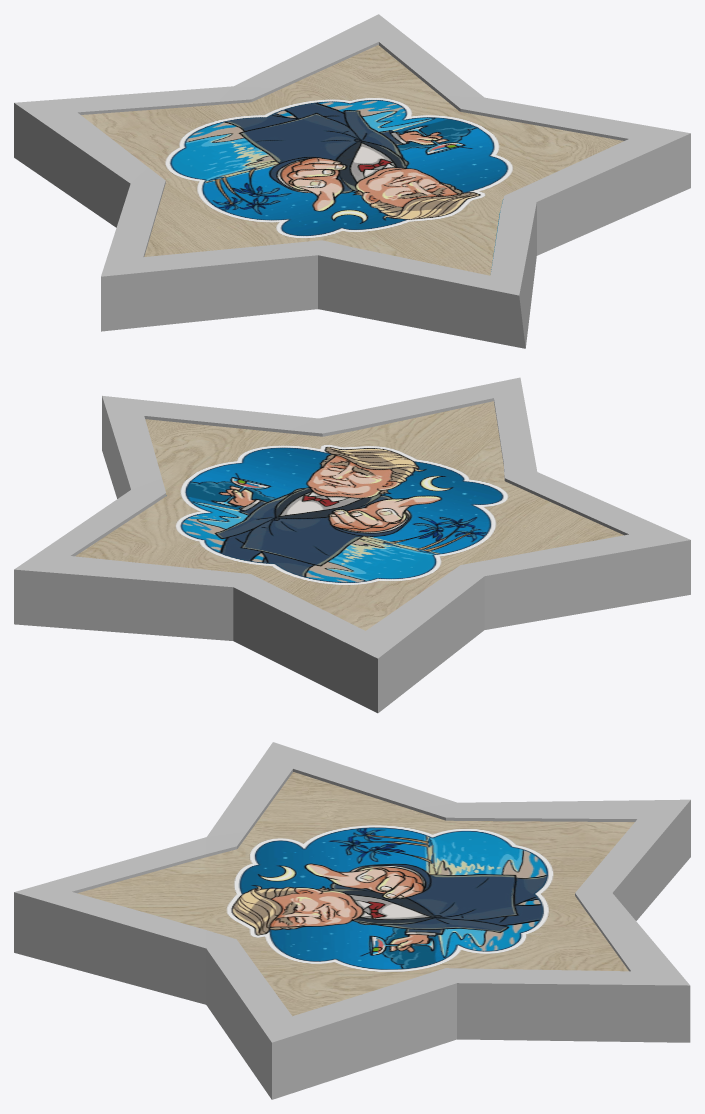
Rendered from Puzzle_23.FBX.
3 views of the same model, one above another, from view 1: azimuth 30°, elevation 25°; view 2: azimuth 150°, elevation 25°; view 3: azimuth 270°, elevation 25° (orthographic). The views are drawn at different scales.
Visible parts, largest first — view 1: Cylinder003, 064, 065, 059, 062, 058, 066, 057, 060; view 2: Cylinder003, 065, 064, 059, 062, 066, 058, 057, 060; view 3: Cylinder003, 064, 065, 059, 062, 058, 066, 057, 060.
Part boxes in pixels (<box>): Cylinder003: <box>14,14,690,348</box>; 064: <box>144,157,394,256</box>; 065: <box>395,111,623,232</box>; 059: <box>149,115,339,222</box>; 062: <box>269,115,470,210</box>; 058: <box>183,45,377,146</box>; 066: <box>321,211,499,275</box>; 057: <box>347,45,459,145</box>; 060: <box>81,105,215,167</box>; Cylinder003: <box>14,377,690,713</box>; 065: <box>145,419,432,499</box>; 064: <box>341,470,623,558</box>; 059: <box>270,512,510,584</box>; 062: <box>202,452,401,564</box>; 066: <box>356,401,504,487</box>; 058: <box>82,530,355,588</box>; 057: <box>75,496,287,556</box>; 060: <box>280,581,436,630</box>; Cylinder003: <box>14,742,690,1099</box>; 064: <box>238,772,437,895</box>; 065: <box>207,893,443,1016</box>; 059: <box>333,811,537,895</box>; 062: <box>267,894,537,955</box>; 058: <box>485,852,628,971</box>; 066: <box>77,849,267,929</box>; 057: <box>412,911,622,971</box>; 060: <box>485,821,634,879</box>.
Size of the model in its own units: 3.81 by 0.3387 by 3.63.
